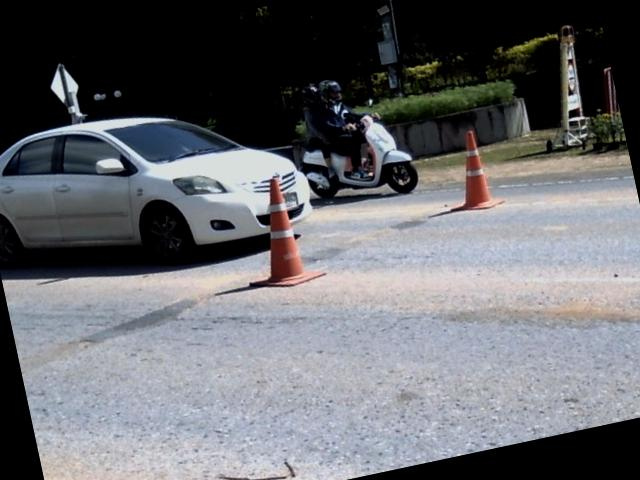helmet: (318, 76, 346, 105), (301, 84, 319, 104)
motor: (300, 115, 417, 197)
person: (313, 80, 366, 180), (301, 83, 329, 166)
